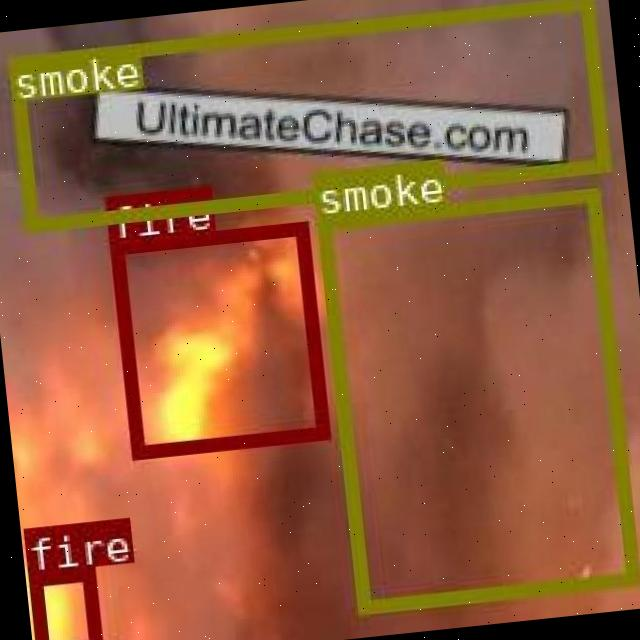fire: (106, 219, 326, 455), (26, 564, 99, 640)
smoke: (5, 0, 607, 228), (316, 186, 638, 610)
